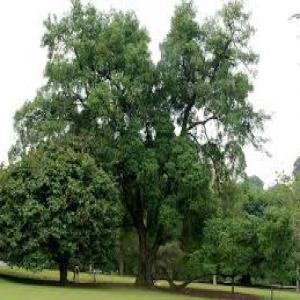Tree: (22, 3, 259, 283), (1, 142, 123, 286)
